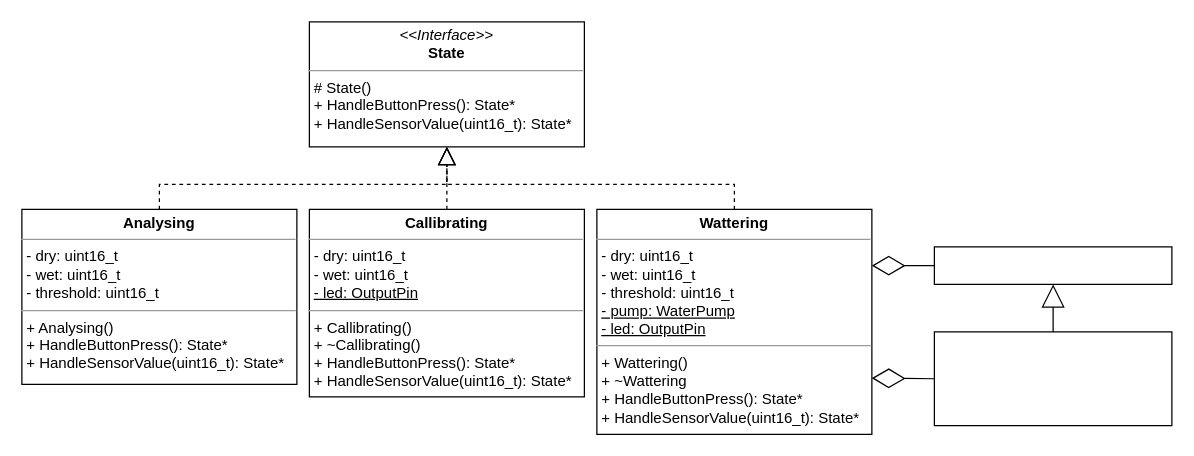
Image size: 1194x456. Some labels were removed from this diagram. Here are the shapes that lost their labels. From the top down, the centre of each, then its label:
At (x=1052, y=265): "OutputPin".
At (x=1052, y=378): "WaterPump + WaterPump(uint8_t) + On(): void + Off(): void".
